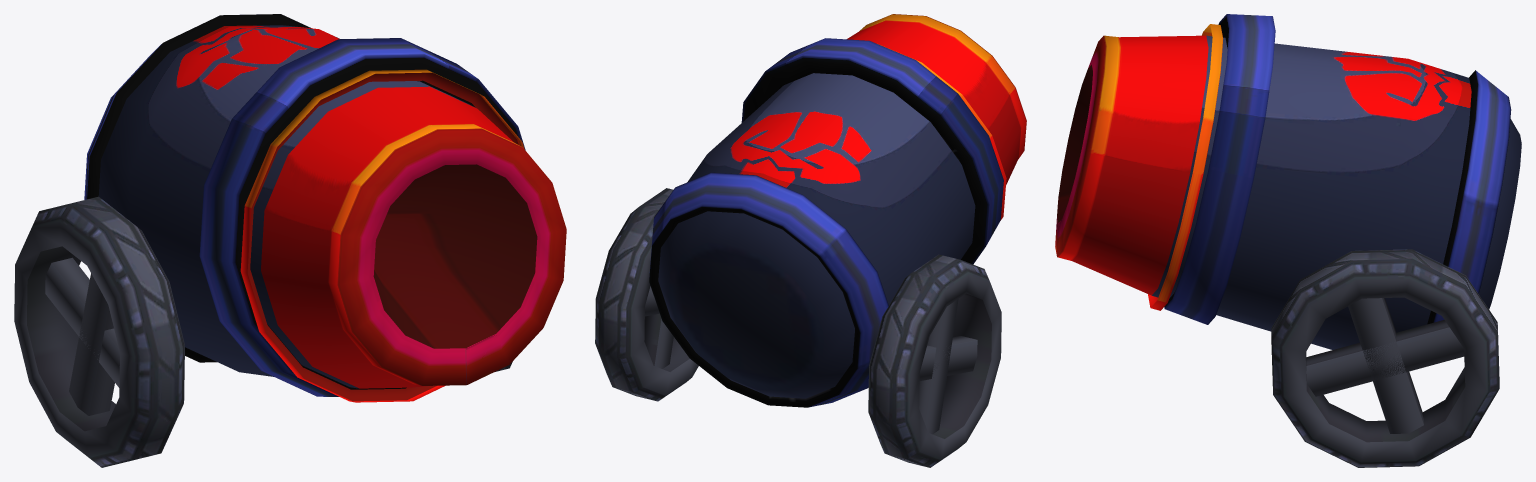
Rendered from cannon.fbx.
3 views of the same model, side by side, from view 1: azimuth 30°, elevation 25°; view 2: azimuth 150°, elevation 25°; view 3: azimuth 270°, elevation 25° (orthographic). The views are drawn at different scales.
Parts seen in each view (by area): view 1: FlatSkin_BombShooter_BloonCrush; view 2: FlatSkin_BombShooter_BloonCrush; view 3: FlatSkin_BombShooter_BloonCrush.
Boxes of the visible parts, x1,y1,x2,y2 form: FlatSkin_BombShooter_BloonCrush: [14, 14, 566, 467]; FlatSkin_BombShooter_BloonCrush: [595, 14, 1026, 467]; FlatSkin_BombShooter_BloonCrush: [1055, 14, 1521, 467].
Size of the model in its own units: 2244 by 2249 by 2634.
Materials: 1 (1 with a texture image).
